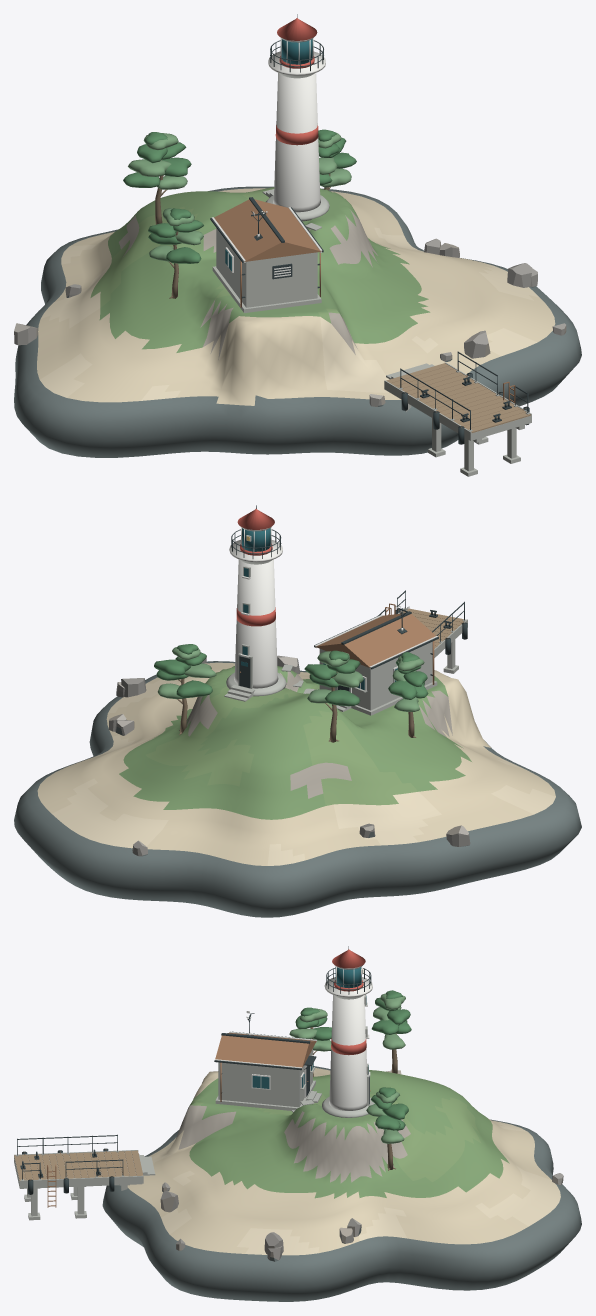
Rendered from ENV_LighthouseIsland.fbx.
The picture shows the model from 3 angles, top to bottom: view 1: azimuth 30°, elevation 25°; view 2: azimuth 150°, elevation 25°; view 3: azimuth 270°, elevation 25°; orthographic projection. The views are drawn at different scales.
Parts seen in each view (by area): view 1: TerrainShell, CoastShed_Visual, Lighthouse_Visual, Jetty_Visual, CoastalPine_0_Visual.001, Decor_Visual, CoastalPine_2_Visual.001, CoastalPine_1_Visual.001; view 2: TerrainShell, Lighthouse_Visual, CoastShed_Visual, CoastalPine_0_Visual.001, CoastalPine_1_Visual.001, Decor_Visual, Jetty_Visual, CoastalPine_2_Visual.001; view 3: TerrainShell, CoastShed_Visual, Lighthouse_Visual, Jetty_Visual, CoastalPine_0_Visual.001, CoastalPine_1_Visual.001, Decor_Visual, CoastalPine_2_Visual.001.
Boxes of the visible parts, bbox=[...] form: TerrainShell: bbox=[14, 186, 581, 457]; CoastShed_Visual: bbox=[210, 197, 323, 313]; Lighthouse_Visual: bbox=[262, 14, 329, 221]; Jetty_Visual: bbox=[384, 351, 531, 476]; CoastalPine_0_Visual.001: bbox=[123, 132, 191, 224]; Decor_Visual: bbox=[14, 223, 566, 406]; CoastalPine_2_Visual.001: bbox=[148, 208, 203, 298]; CoastalPine_1_Visual.001: bbox=[318, 129, 356, 190]; TerrainShell: bbox=[14, 661, 581, 917]; Lighthouse_Visual: bbox=[224, 505, 286, 701]; CoastShed_Visual: bbox=[314, 607, 438, 715]; CoastalPine_0_Visual.001: bbox=[304, 650, 363, 742]; CoastalPine_1_Visual.001: bbox=[154, 644, 216, 734]; Decor_Visual: bbox=[108, 655, 470, 856]; Jetty_Visual: bbox=[378, 590, 467, 673]; CoastalPine_2_Visual.001: bbox=[388, 652, 428, 737]; TerrainShell: bbox=[102, 1066, 581, 1301]; CoastShed_Visual: bbox=[214, 1014, 321, 1110]; Lighthouse_Visual: bbox=[322, 946, 374, 1117]; Jetty_Visual: bbox=[14, 1134, 155, 1220]; CoastalPine_0_Visual.001: bbox=[371, 990, 411, 1073]; CoastalPine_1_Visual.001: bbox=[366, 1087, 408, 1170]; Decor_Visual: bbox=[138, 1070, 563, 1261]; CoastalPine_2_Visual.001: bbox=[289, 1007, 331, 1076].
Size of the model in its own units: 2364 by 1482 by 2734.
